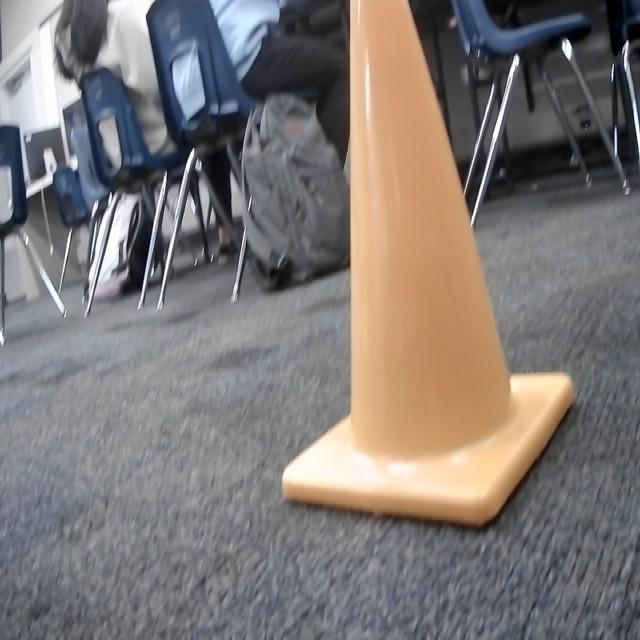cone: (282, 2, 576, 532)
